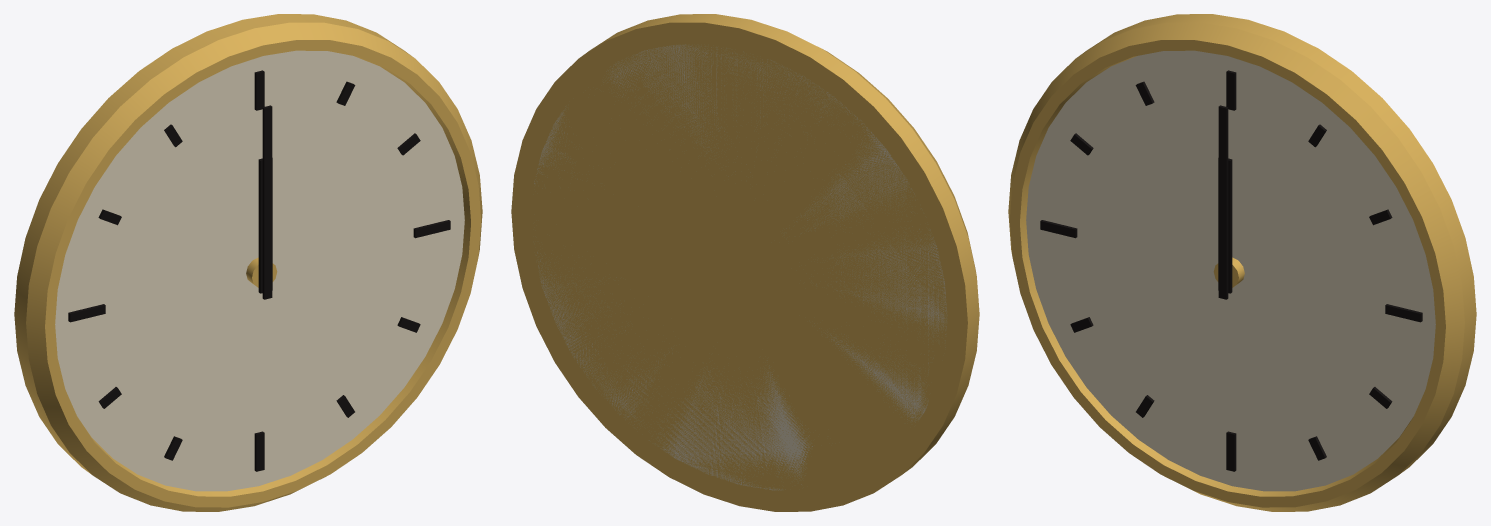
Rendered from wall_clock.glb.
3 views of the same model, side by side, from view 1: azimuth 30°, elevation 25°; view 2: azimuth 150°, elevation 25°; view 3: azimuth 330°, elevation 25° (orthographic).
Parts seen in each view (by area): view 1: wall_clock, MinuteHand, HourHand; view 2: wall_clock; view 3: wall_clock, MinuteHand, HourHand.
Boxes of the visible parts, left/top/right/bottom form: wall_clock: left=14, top=14, right=482, bottom=511; MinuteHand: left=262, top=105, right=272, bottom=299; HourHand: left=258, top=158, right=272, bottom=293; wall_clock: left=511, top=14, right=979, bottom=511; wall_clock: left=1008, top=14, right=1476, bottom=511; MinuteHand: left=1218, top=105, right=1228, bottom=299; HourHand: left=1218, top=158, right=1232, bottom=293.
Bounding box in the file's own units: 0.9 × 0.9 × 0.088.
